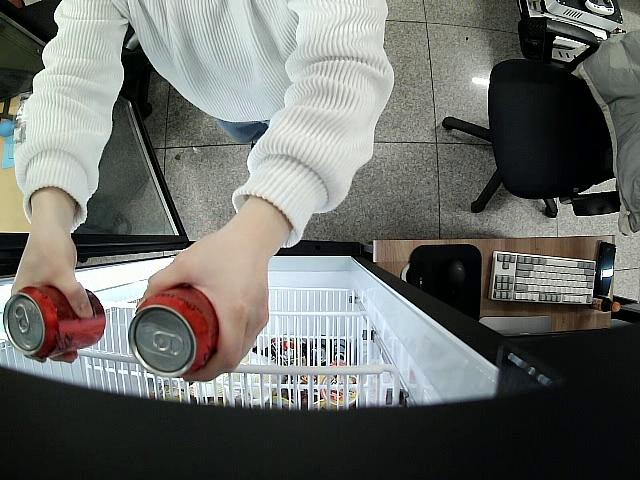00_hand: (133, 239, 269, 386), (10, 235, 95, 363)
11_cocaColaZero: (128, 283, 219, 379), (2, 283, 105, 356)
